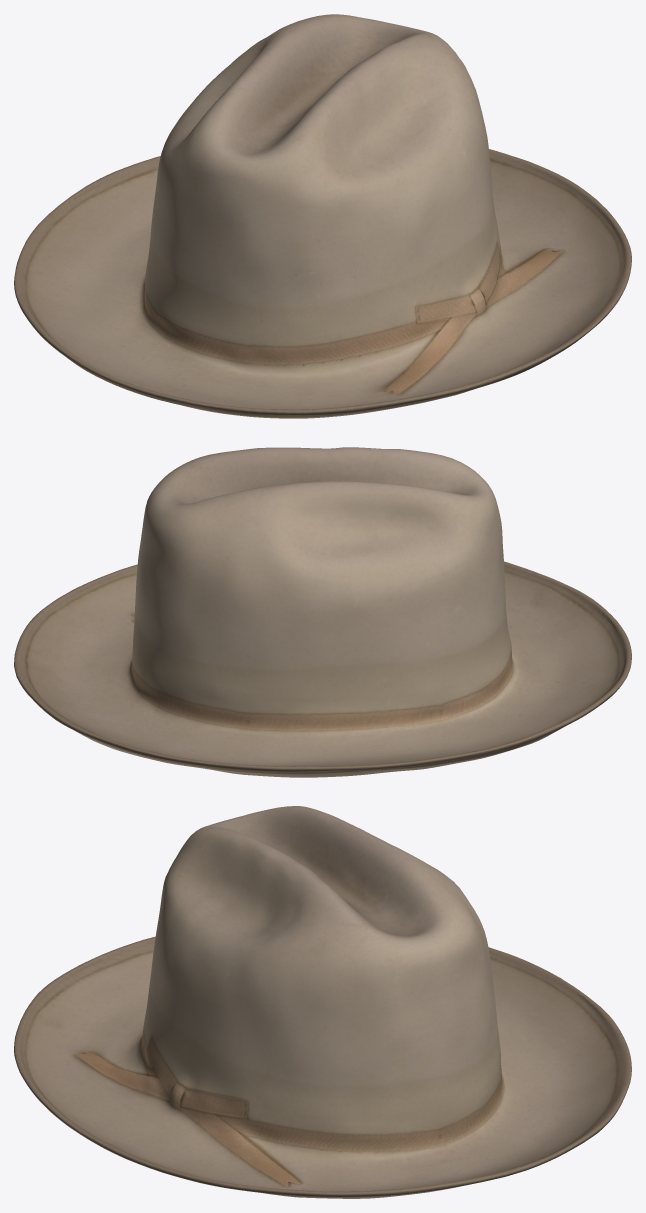
File: GOR_001.glb
The picture shows the model from 3 angles, top to bottom: view 1: azimuth 30°, elevation 25°; view 2: azimuth 150°, elevation 25°; view 3: azimuth 270°, elevation 25°; orthographic projection. The views are drawn at different scales.
Parts seen in each view (by area): view 1: GOR_001_bakedv2; view 2: GOR_001_bakedv2; view 3: GOR_001_bakedv2.
Part boxes in pixels (left/top/right/bottom): GOR_001_bakedv2: left=14, top=14, right=631, bottom=418; GOR_001_bakedv2: left=14, top=447, right=631, bottom=777; GOR_001_bakedv2: left=14, top=806, right=631, bottom=1198.
Bounding box in the file's own units: 0.2614 × 0.1085 × 0.2518.
1 material, 1 textured.
